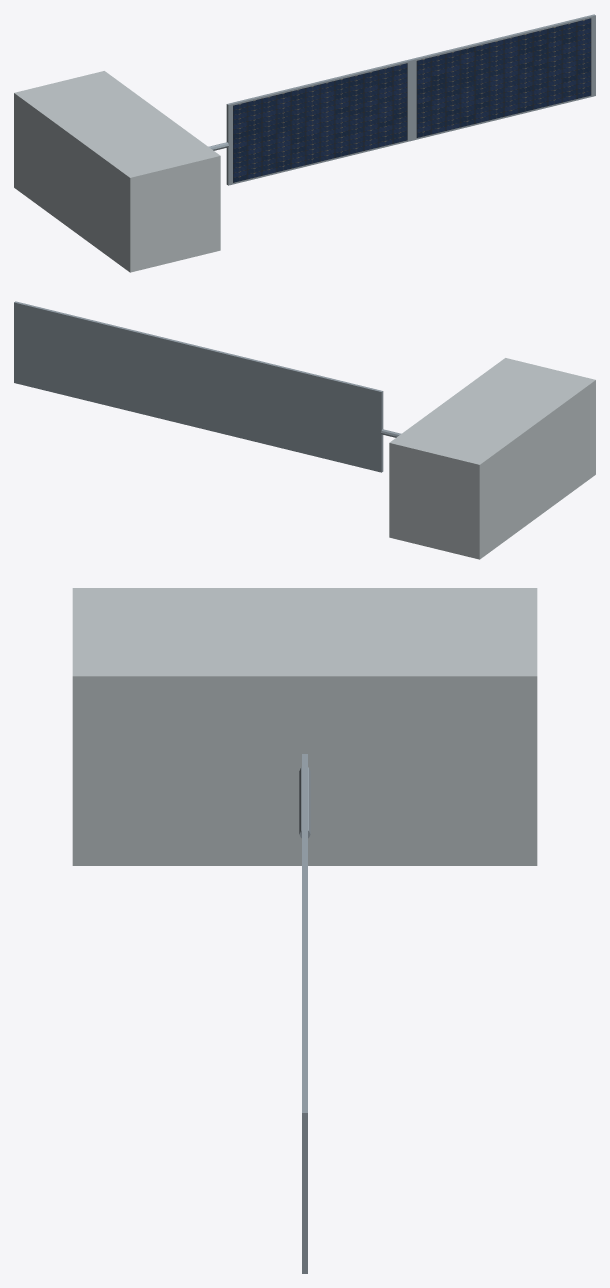
The model's file is ref-spot-ppf-27386.glb.
The picture shows the model from 3 angles, top to bottom: view 1: azimuth 30°, elevation 25°; view 2: azimuth 150°, elevation 25°; view 3: azimuth 270°, elevation 25°; orthographic projection. The views are drawn at different scales.
Parts seen in each view (by area): view 1: Spacecraft body, Photovoltaic laminates (×2), Array frame (×2); view 2: Array frame (×2), Spacecraft body; view 3: Spacecraft body, Array frame (×2).
Boxes of the visible parts, <box> form: Spacecraft body: <box>14,71,220,272</box>; Photovoltaic laminates (×2): <box>233,18,591,182</box>; Array frame (×2): <box>226,14,595,185</box>; Array frame (×2): <box>14,301,383,472</box>; Spacecraft body: <box>389,358,595,559</box>; Spacecraft body: <box>72,588,537,865</box>; Array frame (×2): <box>302,754,307,1273</box>.
Size of the model in its own units: 26 by 4.5 by 10.
3 materials, 1 textured.
